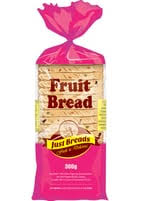bread: (31, 28, 117, 201)
